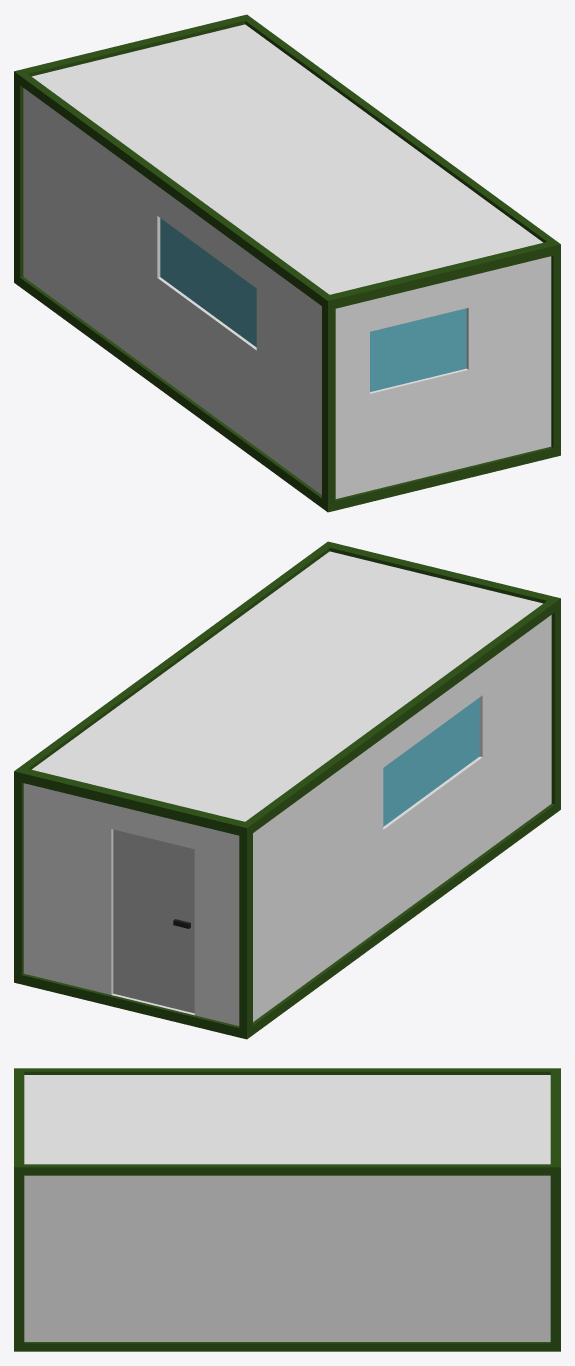
The model's file is container_office.glb.
The picture shows the model from 3 angles, top to bottom: view 1: azimuth 30°, elevation 25°; view 2: azimuth 150°, elevation 25°; view 3: azimuth 270°, elevation 25°; orthographic projection. The views are drawn at different scales.
Visible parts, largest first — view 1: Office_Container_Single_Green; view 2: Office_Container_Single_Green; view 3: Office_Container_Single_Green.
Boxes of the visible parts, box(x1,y1,x2,y2) form: Office_Container_Single_Green: box(14, 14, 560, 512); Office_Container_Single_Green: box(14, 541, 560, 1039); Office_Container_Single_Green: box(14, 1068, 560, 1351).
Bounding box in the file's own units: 3 × 2.6 × 7.
1 material, 1 textured.
